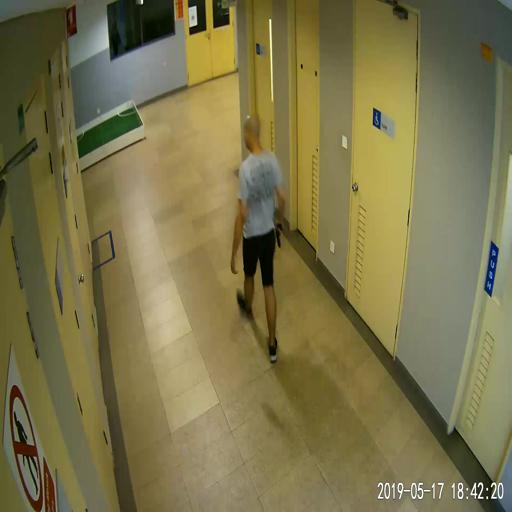pistol: (273, 218, 287, 249)
